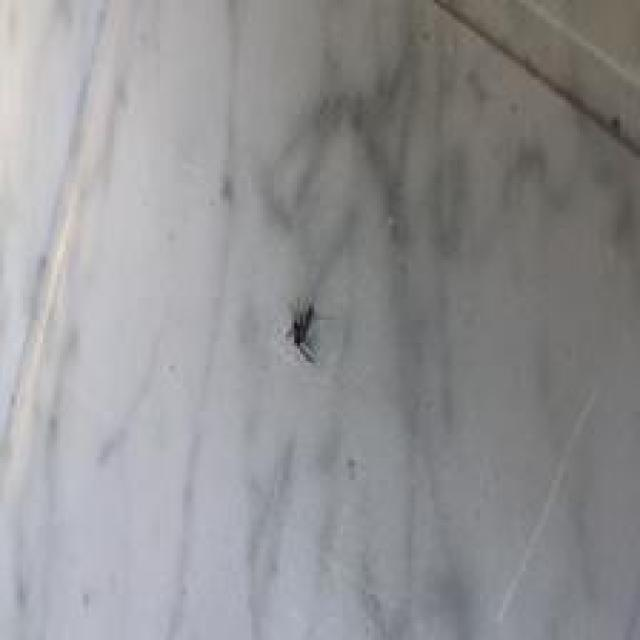Aedes albopictus: (284, 296, 319, 364)
